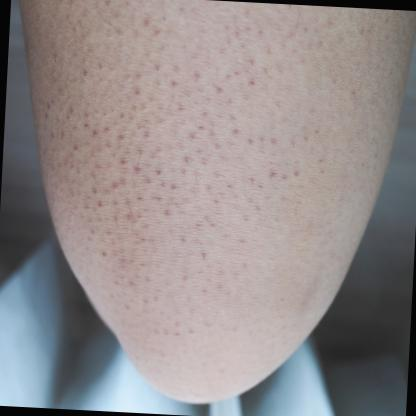Chicken Skin: (28, 0, 305, 298)
